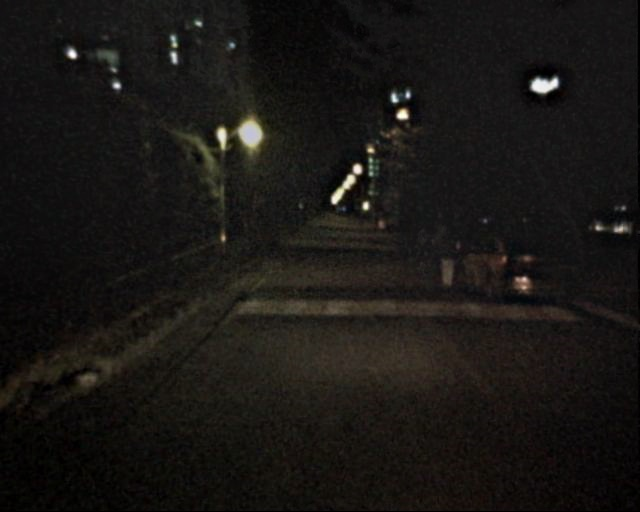person: (436, 228, 461, 288), (412, 227, 432, 275), (429, 222, 449, 270)
